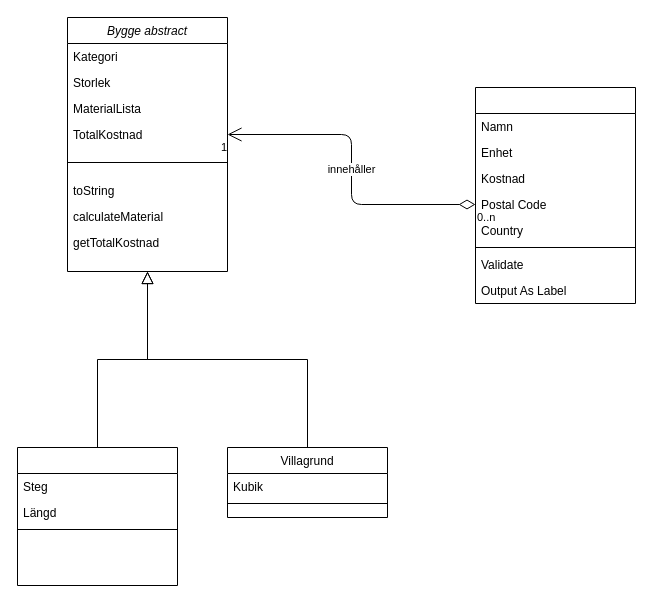
Image size: 653x603. Some labels were removed from this diagram. Each missing label, with the box of its shape:
Material: (474, 86, 636, 304)
Trappa: (16, 446, 178, 586)
